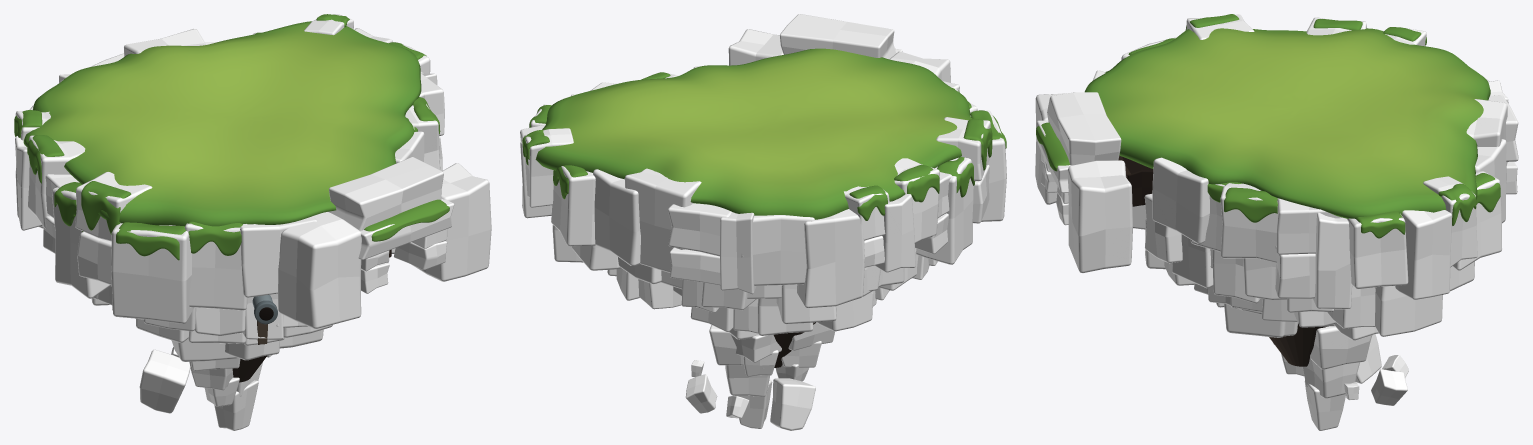
File: IFK01_K1R2_C_M20MC.glb
3 views of the same model, side by side, from view 1: azimuth 30°, elevation 25°; view 2: azimuth 150°, elevation 25°; view 3: azimuth 270°, elevation 25° (orthographic). The views are drawn at different scales.
Parts seen in each view (by area): view 1: IFK2_C_GROUND, IFK2_C_PORTAL_FILL-1, IFK2_C_B0_021, IFK2_C_PORTAL_ABOVE, IFK2_C_PORTAL_FILL+1, IFK2_C_B0_022, IFK2_C_B0_023, IFK2_C_FLOAT_0, IFK2_C_B0_018, IFK2_C_B0_015, IFK2_C_PORTAL_LINTEL, IFK2_C_B0_021_DRAPE (+30 smaller); view 2: IFK2_C_GROUND, IFK2_C_B0_011, IFK2_C_B0_006, IFK2_C_B0_010, IFK2_C_PORTAL_ABOVE, IFK2_C_B0_005, IFK2_C_B0_004, IFK2_C_B0_009, IFK2_C_B0_007a, IFK2_C_B0_018, IFK2_C_B0_014, IFK2_C_FLOAT_0 (+38 smaller); view 3: IFK2_C_GROUND, IFK2_C_PORTAL_FILL+1, IFK2_C_PORTAL_ABOVE, IFK2_C_B0_002, IFK2_C_B0_029, IFK2_C_B0_001, IFK2_C_B0_000, IFK2_C_B0_031, IFK2_C_B1_060, IFK2_C_B0_032a, IFK2_C_SPIRE0_0, IFK2_C_B0_032b (+30 smaller).
Boxes of the visible parts, left/top/right/bottom form: IFK2_C_GROUND: left=23, top=21, right=421, bottom=226; IFK2_C_PORTAL_FILL-1: left=278, top=212, right=361, bottom=328; IFK2_C_B0_021: left=111, top=223, right=193, bottom=323; IFK2_C_PORTAL_ABOVE: left=328, top=157, right=443, bottom=230; IFK2_C_PORTAL_FILL+1: left=411, top=163, right=491, bottom=281; IFK2_C_B0_022: left=184, top=223, right=247, bottom=310; IFK2_C_B0_023: left=240, top=216, right=316, bottom=297; IFK2_C_FLOAT_0: left=139, top=349, right=190, bottom=413; IFK2_C_B0_018: left=52, top=187, right=111, bottom=298; IFK2_C_B0_015: left=28, top=135, right=85, bottom=228; IFK2_C_PORTAL_LINTEL: left=358, top=198, right=454, bottom=259; IFK2_C_B0_021_DRAPE: left=116, top=222, right=186, bottom=260; IFK2_C_GROUND: left=535, top=48, right=991, bottom=219; IFK2_C_B0_011: left=797, top=209, right=864, bottom=307; IFK2_C_B0_006: left=624, top=168, right=701, bottom=272; IFK2_C_B0_010: left=741, top=215, right=814, bottom=285; IFK2_C_PORTAL_ABOVE: left=779, top=14, right=896, bottom=59; IFK2_C_B0_005: left=593, top=169, right=640, bottom=265; IFK2_C_B0_004: left=551, top=166, right=595, bottom=246; IFK2_C_B0_009: left=720, top=212, right=756, bottom=294; IFK2_C_B0_007a: left=668, top=203, right=731, bottom=256; IFK2_C_B0_018: left=916, top=157, right=973, bottom=264; IFK2_C_B0_014: left=874, top=194, right=915, bottom=272; IFK2_C_FLOAT_0: left=770, top=378, right=815, bottom=430; IFK2_C_GROUND: left=1084, top=28, right=1490, bottom=218; IFK2_C_PORTAL_FILL+1: left=1067, top=160, right=1132, bottom=272; IFK2_C_PORTAL_ABOVE: left=1047, top=92, right=1121, bottom=165; IFK2_C_B0_002: left=1395, top=210, right=1451, bottom=299; IFK2_C_B0_029: left=1152, top=157, right=1209, bottom=243; IFK2_C_B0_001: left=1347, top=213, right=1408, bottom=289; IFK2_C_B0_000: left=1313, top=212, right=1352, bottom=309; IFK2_C_B0_031: left=1220, top=183, right=1277, bottom=262; IFK2_C_B1_060: left=1375, top=286, right=1442, bottom=336; IFK2_C_B0_032a: left=1276, top=198, right=1341, bottom=254; IFK2_C_SPIRE0_0: left=1310, top=326, right=1372, bottom=369; IFK2_C_B0_032b: left=1275, top=245, right=1315, bottom=298.
Size of the model in its own units: 142 by 108 by 146.
